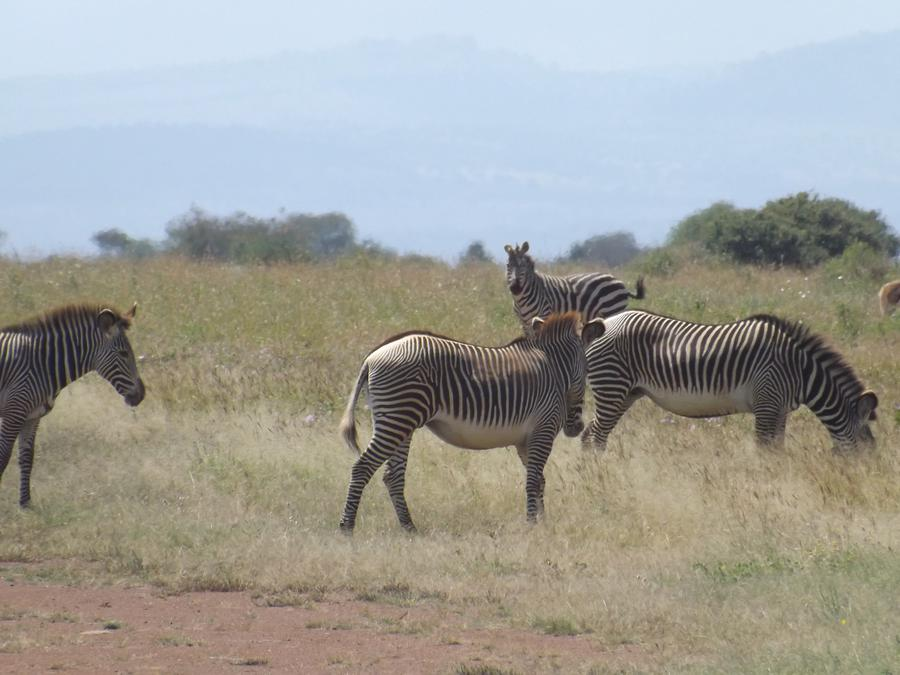zebra_grevys: (353, 322, 557, 445)
